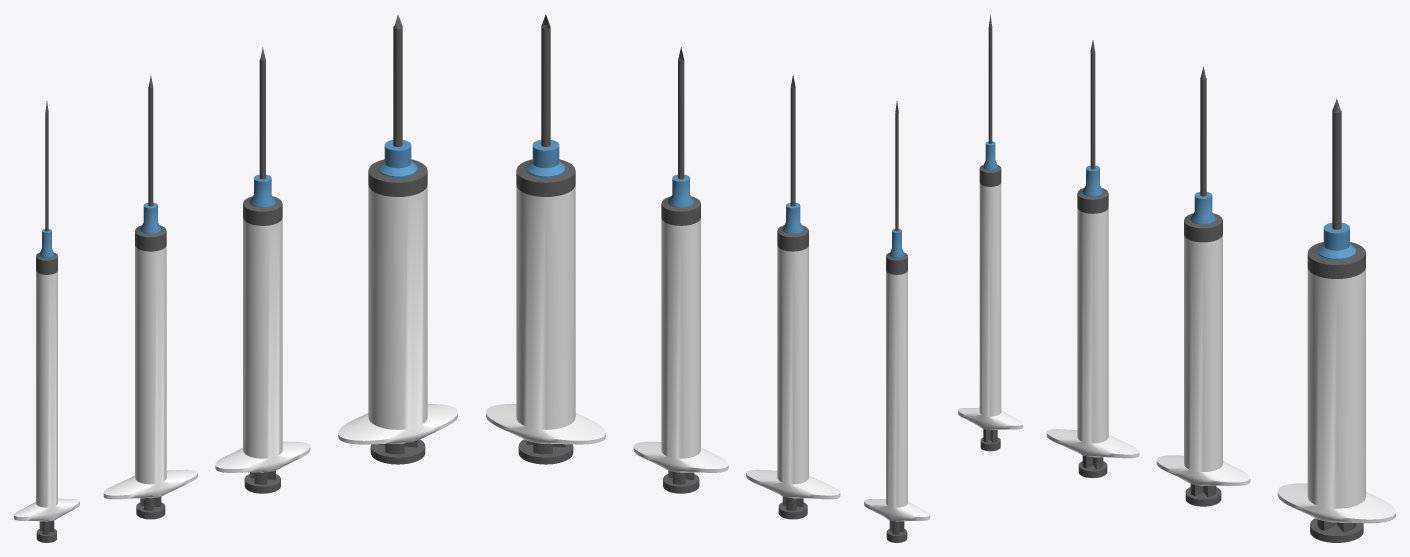
File: syringes.fbx
3 renders of one model, left to right at view 1: azimuth 30°, elevation 25°; view 2: azimuth 150°, elevation 25°; view 3: azimuth 330°, elevation 25°, orthographic.
Parts seen in each view (by area): view 1: basis1_4, basis1_3, basis1_2, basis1, naald_4, Cylinder_1_4, naald_3, naald_2, Cylinder_1_3, Cylinder_1_2; view 2: basis1_4, basis1_3, basis1_2, basis1, naald_4, Cylinder_1_4, naald_3, naald_2, Cylinder_1_3, Cylinder_1_2; view 3: basis1_4, basis1_3, basis1_2, basis1, naald_4, Cylinder_1_4, naald_3, naald_2, Cylinder_1_3, naald, Cylinder_1_2.
Part boxes in pixels (<box>): basis1_4: <box>338,140,457,444</box>; basis1_3: <box>215,174,310,472</box>; basis1_2: <box>103,202,197,499</box>; basis1: <box>14,229,79,521</box>; naald_4: <box>393,14,402,146</box>; Cylinder_1_4: <box>370,439,425,464</box>; naald_3: <box>259,47,265,179</box>; naald_2: <box>148,74,153,206</box>; Cylinder_1_3: <box>244,470,280,493</box>; Cylinder_1_2: <box>136,496,165,519</box>; basis1_4: <box>486,140,605,444</box>; basis1_3: <box>633,174,728,472</box>; basis1_2: <box>746,202,840,499</box>; basis1: <box>864,229,929,521</box>; naald_4: <box>541,14,550,146</box>; Cylinder_1_4: <box>518,439,573,464</box>; naald_3: <box>678,47,684,179</box>; naald_2: <box>790,74,795,206</box>; Cylinder_1_3: <box>663,470,699,493</box>; Cylinder_1_2: <box>778,496,807,519</box>; basis1_4: <box>1277,222,1395,523</box>; basis1_3: <box>1156,192,1250,485</box>; basis1_2: <box>1046,165,1139,458</box>; basis1: <box>958,141,1022,430</box>; naald_4: <box>1332,99,1341,229</box>; Cylinder_1_4: <box>1310,518,1363,542</box>; naald_3: <box>1200,66,1206,196</box>; naald_2: <box>1090,40,1095,169</box>; Cylinder_1_3: <box>1185,484,1221,506</box>; naald: <box>988,14,992,143</box>; Cylinder_1_2: <box>1078,455,1107,477</box>.
Bounding box in the file's own units: 12.1 × 11.5 × 1.54.
